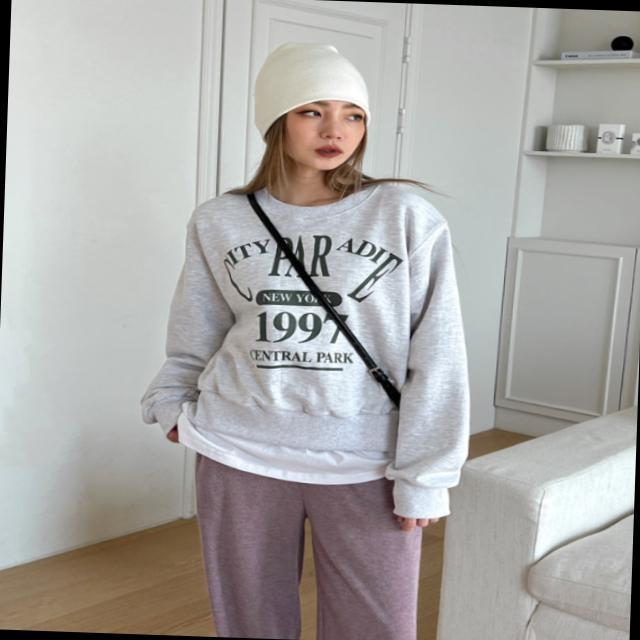short sleeve shirt: (175, 402, 400, 487)
sweater: (138, 179, 472, 519)
trousers: (191, 449, 423, 640)
